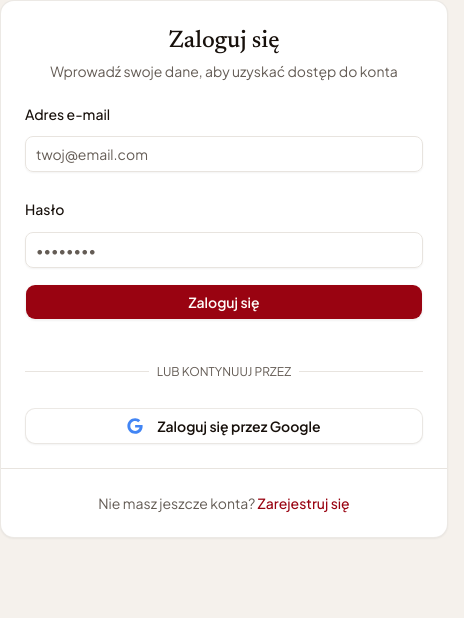
Test: app/login/_components/SignIn › displays generic credentials error alert on wrong password
The image size is (464, 618).
Type "user@example.com" into the field labelled "Adres e-mail".
click(224, 154); type("user@example.com")  # box [25,136,423,172]
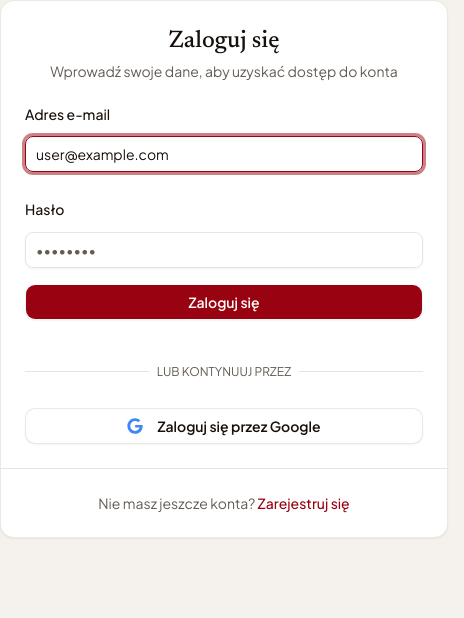
Type "wrongpassword" into the password field labelled "Hasło".
click(224, 250); type("wrongpassword")  # box [25,232,423,268]
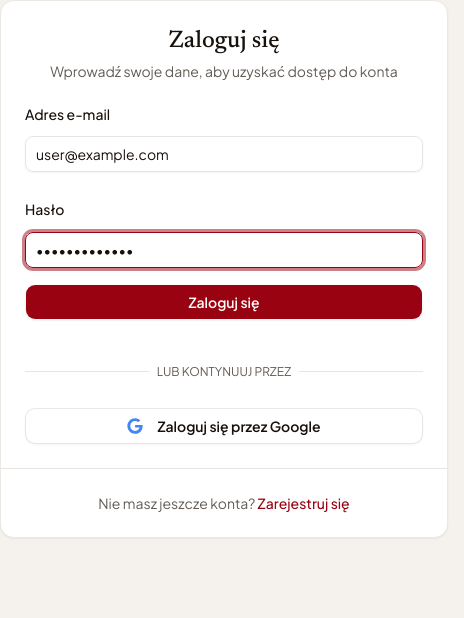
Click the button "Zaloguj się".
click(224, 302)  # box [25,284,423,320]
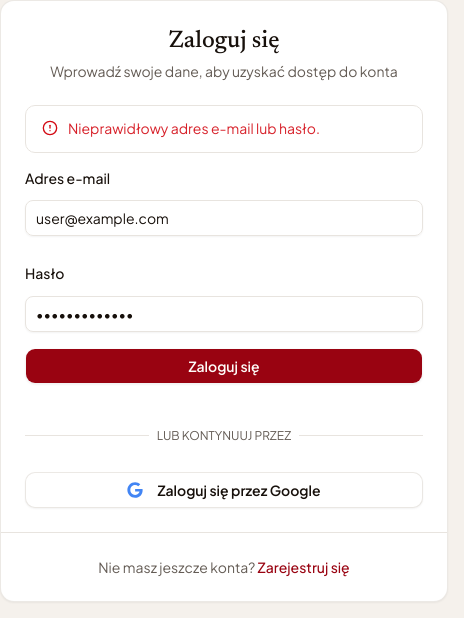
Check: the message "Nieprawidłowy adres e-mail lub hasło." is shown, box [25,105,423,153]
Check: the text "Nieprawidłowy adres e-mail lub hasło." is shown, box [68,119,320,137]
